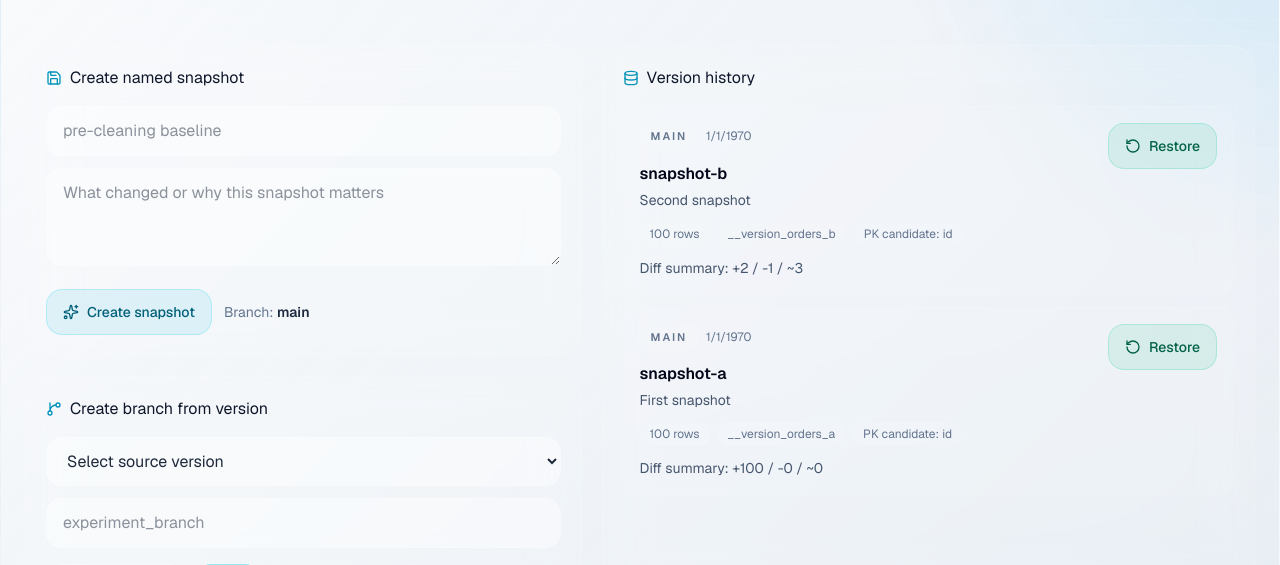
Test: DataVersioning › restores a stored version after confirmation
This screenshot has width=1280, height=565.
What coordinates should you click on to do the following:
click the button "Restore" in the row of "snapshot-b"
I would click on:
 (1162, 146)
Its box is [1108,123,1217,169].
(page scrolled)
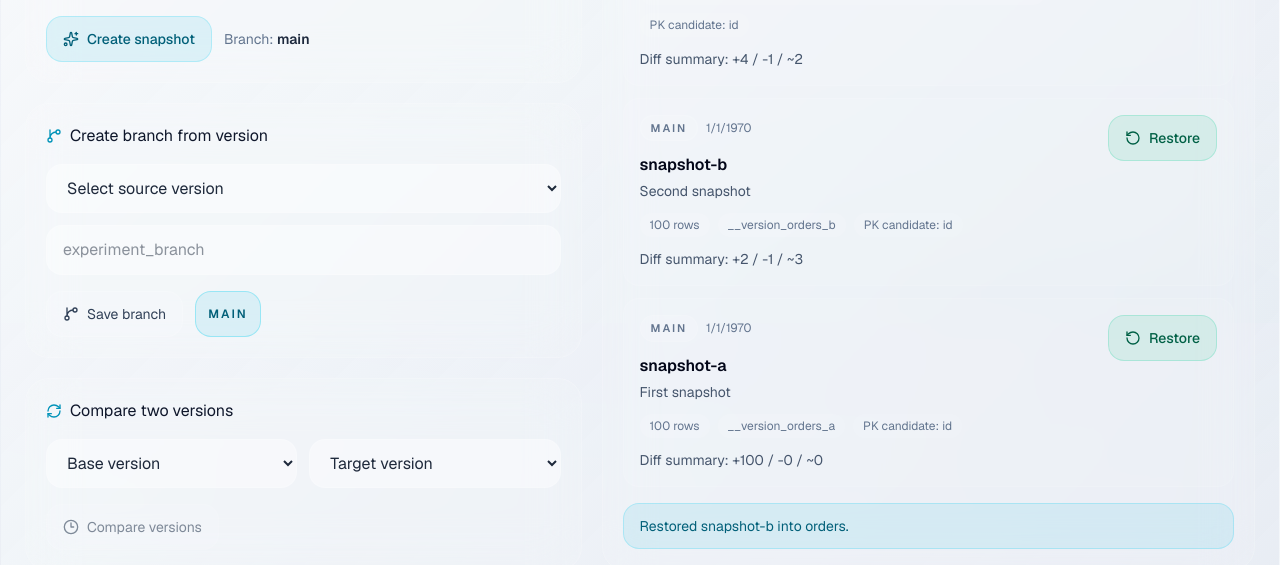
Now the text "Restored snapshot-b into orders." is shown, box [623,502,1234,548]
